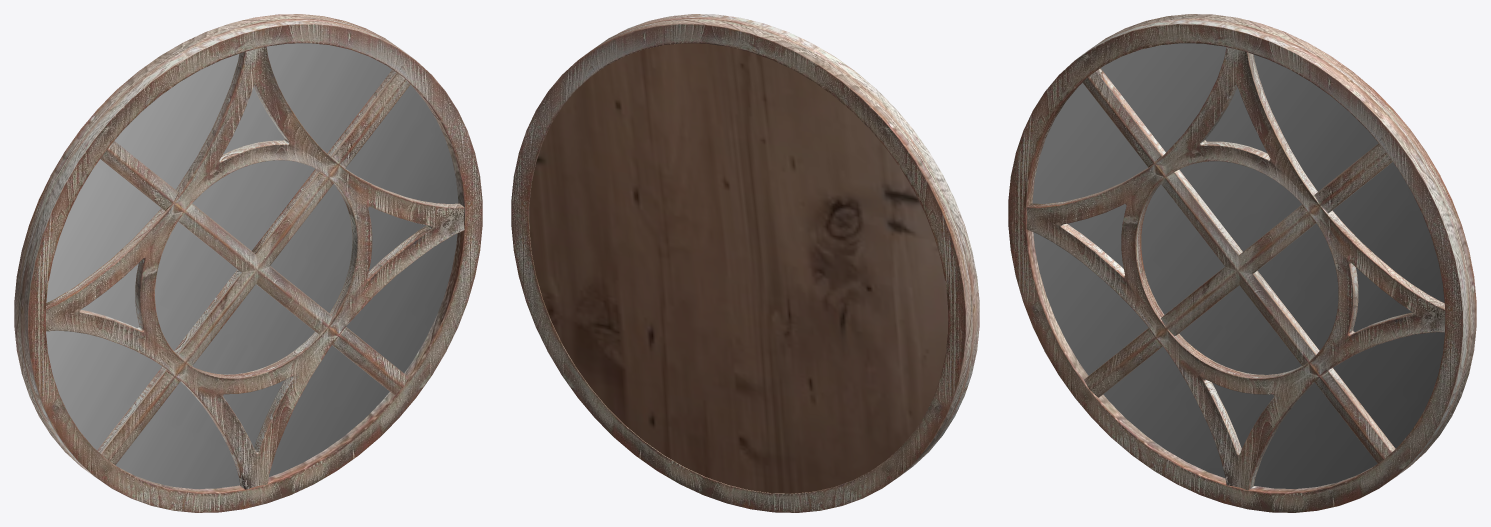
Rendered from abo-B084KCZXFC.glb.
The picture shows the model from 3 angles, left to right: view 1: azimuth 30°, elevation 25°; view 2: azimuth 150°, elevation 25°; view 3: azimuth 330°, elevation 25°; orthographic projection.
Bounding box in the file's own units: 0.71 × 0.71 × 0.038.
Materials: 1 (1 with a texture image).
